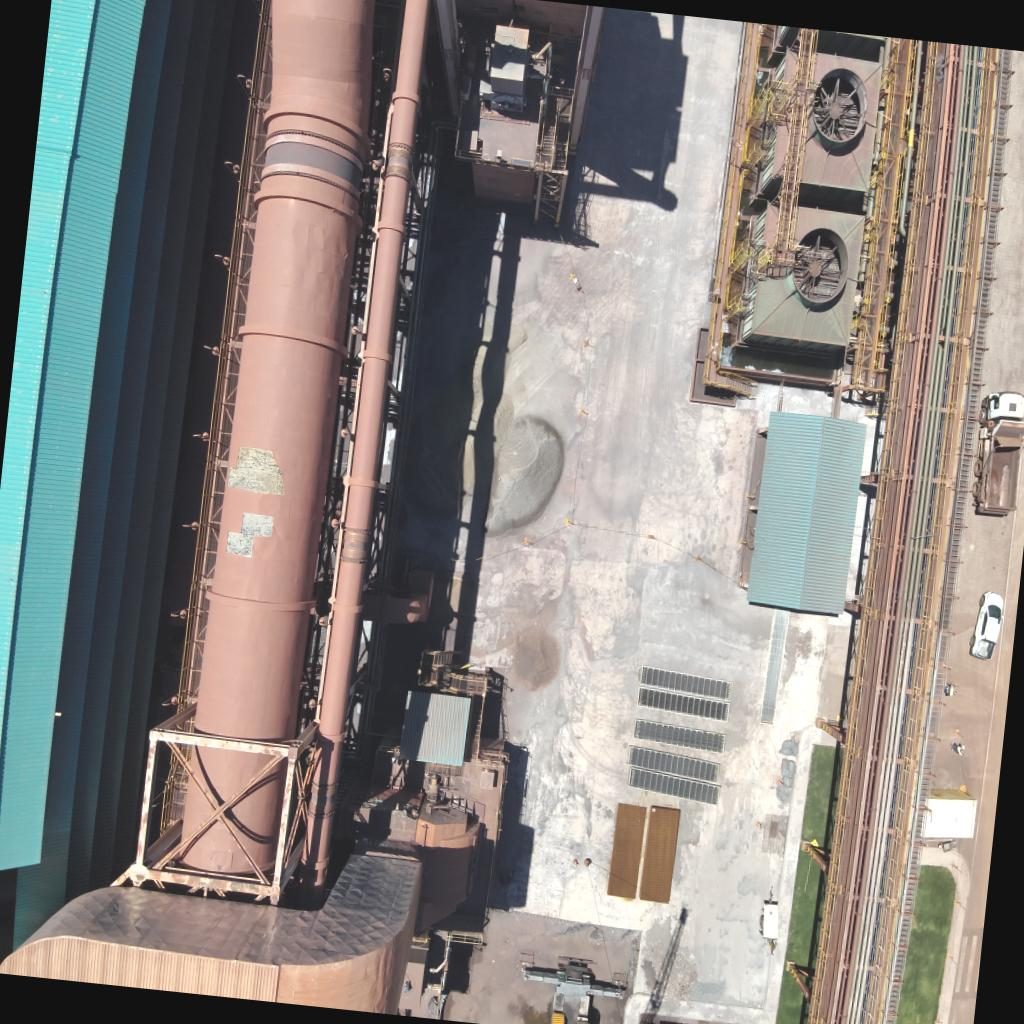Failures: (224, 442, 286, 500), (346, 794, 422, 832), (222, 509, 276, 561)
